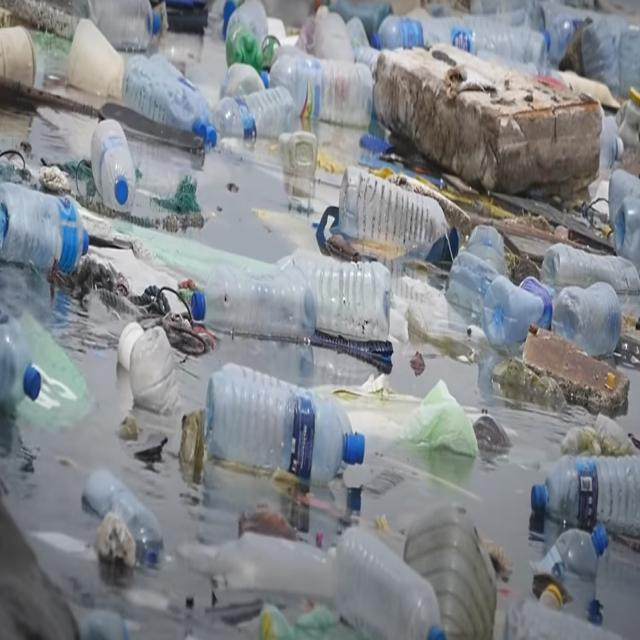plasticbottle: (207, 366, 363, 471), (333, 535, 444, 640), (338, 178, 461, 261), (531, 451, 640, 533), (548, 248, 626, 359), (194, 276, 321, 340), (124, 50, 212, 138), (0, 194, 90, 279), (288, 45, 376, 113), (444, 19, 548, 74), (213, 90, 297, 150), (94, 119, 134, 208), (485, 288, 556, 334)
